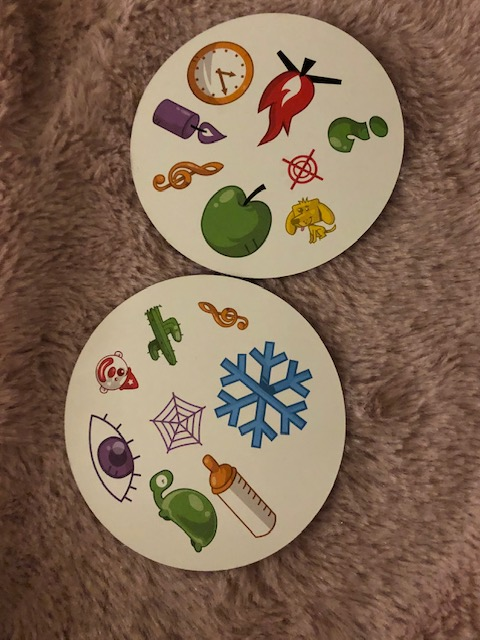biberon: (198, 446, 279, 539)
bougie: (150, 97, 228, 147)
cactus: (141, 302, 185, 369)
chien: (280, 195, 335, 246)
cible: (278, 148, 327, 191)
clown: (94, 349, 140, 395)
feu: (255, 46, 344, 148)
flocon: (210, 339, 312, 448)
horloge: (185, 39, 256, 106)
note: (150, 158, 225, 192), (193, 300, 251, 334)
oeuil: (86, 411, 143, 508)
point_interrogation: (327, 113, 390, 155)
pomme: (195, 182, 275, 260)
toile: (150, 388, 207, 453)
tortue: (147, 468, 220, 554)
